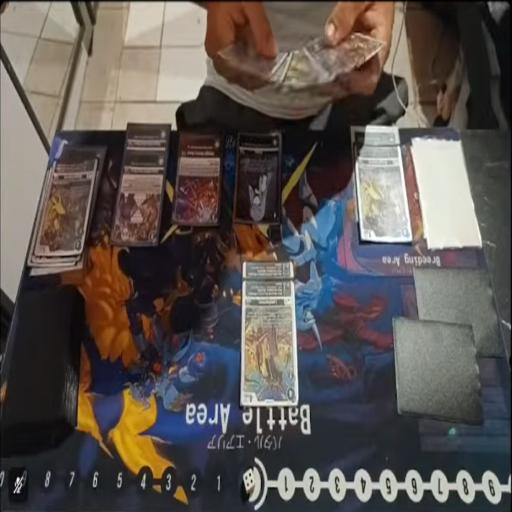card: (242, 276, 300, 408), (35, 158, 97, 256), (109, 152, 167, 248), (355, 146, 409, 244), (170, 128, 222, 226), (236, 130, 282, 228), (306, 34, 360, 72), (342, 26, 388, 64), (284, 48, 328, 80), (240, 258, 295, 282), (350, 124, 400, 150), (126, 124, 170, 152)
